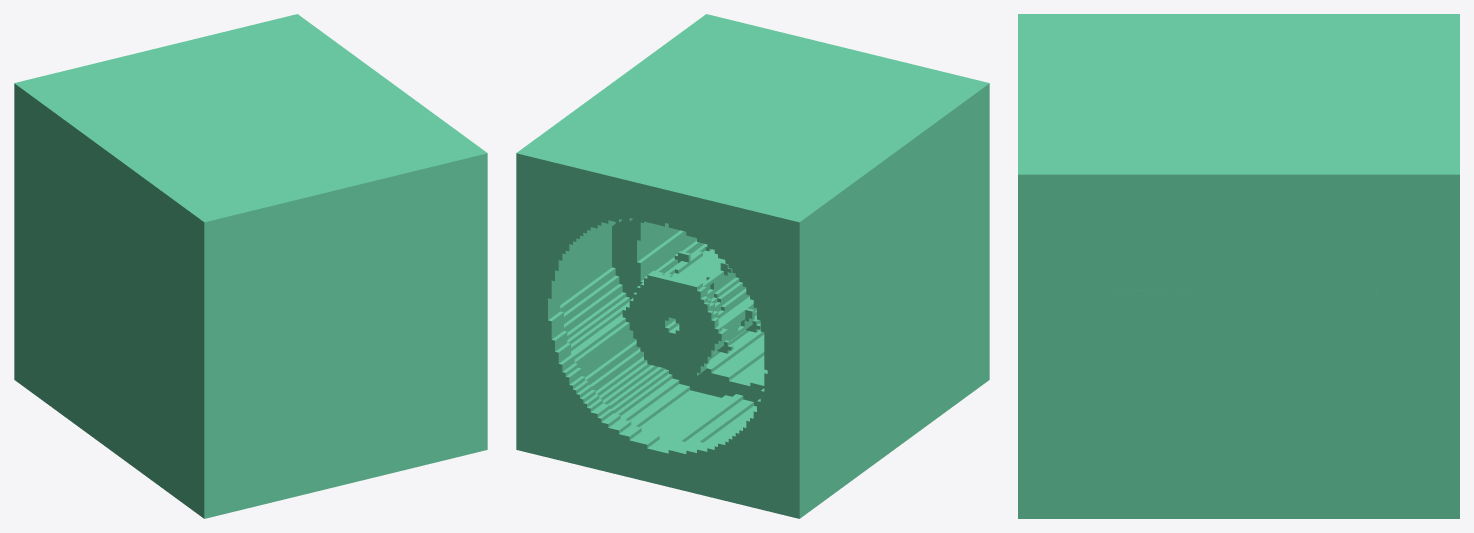
3 views of the same model, side by side, from view 1: azimuth 30°, elevation 25°; view 2: azimuth 150°, elevation 25°; view 3: azimuth 270°, elevation 25° (orthographic). The views are drawn at different scales.
Visible parts, largest first — view 1: cell_union_370, cell_union_360, cell_union_228, cell_union_369, cell_union_2, cell_union_275, cell_union_300, cell_union_350, cell_union_320, cell_union_282, cell_union_293, cell_union_266 (+17 smaller); view 2: cell_union_360, cell_union_228, cell_union_2, cell_union_45, cell_union_369, cell_union_282, cell_union_275, cell_union_370, cell_union_300, cell_union_350, cell_union_320, cell_union_270 (+69 smaller); view 3: cell_union_360, cell_union_228, cell_union_369, cell_union_270, cell_union_357, cell_union_2, cell_union_318, cell_union_336, cell_union_370, cell_union_250, cell_union_282, cell_union_253 (+70 smaller).
Boxes of the visible parts, left/top/right/bottom form: cell_union_370: left=200, top=150, right=487, bottom=518; cell_union_360: left=96, top=74, right=483, bottom=259; cell_union_228: left=26, top=23, right=378, bottom=164; cell_union_369: left=96, top=399, right=200, bottom=515; cell_union_2: left=14, top=14, right=309, bottom=124; cell_union_275: left=26, top=218, right=95, bottom=313; cell_union_300: left=96, top=280, right=200, bottom=378; cell_union_350: left=96, top=262, right=200, bottom=355; cell_union_320: left=96, top=303, right=200, bottom=396; cell_union_282: left=26, top=366, right=95, bottom=439; cell_union_293: left=26, top=159, right=95, bottom=231; cell_union_266: left=26, top=300, right=95, bottom=372; cell_union_360: left=598, top=17, right=985, bottom=202; cell_union_228: left=529, top=93, right=881, bottom=235; cell_union_2: left=516, top=144, right=811, bottom=255; cell_union_45: left=516, top=416, right=811, bottom=518; cell_union_369: left=665, top=342, right=985, bottom=458; cell_union_282: left=640, top=390, right=881, bottom=509; cell_union_275: left=812, top=289, right=881, bottom=383; cell_union_370: left=703, top=14, right=989, bottom=382; cell_union_300: left=881, top=223, right=985, bottom=321; cell_union_350: left=881, top=205, right=985, bottom=299; cell_union_320: left=881, top=246, right=985, bottom=339; cell_union_270: left=560, top=226, right=611, bottom=304; cell_union_360: left=1027, top=14, right=1269, bottom=221; cell_union_228: left=1270, top=14, right=1431, bottom=200; cell_union_369: left=1027, top=471, right=1269, bottom=518; cell_union_270: left=1270, top=321, right=1431, bottom=372; cell_union_357: left=1027, top=334, right=1269, bottom=359; cell_union_2: left=1431, top=14, right=1459, bottom=213; cell_union_318: left=1027, top=359, right=1269, bottom=381; cell_union_336: left=1027, top=312, right=1269, bottom=333; cell_union_370: left=1018, top=14, right=1027, bottom=518; cell_union_250: left=1270, top=415, right=1431, bottom=441; cell_union_282: left=1270, top=493, right=1431, bottom=518; cell_union_253: left=1270, top=252, right=1431, bottom=277.
Bounding box in the file's own units: 800 × 800 × 930.
